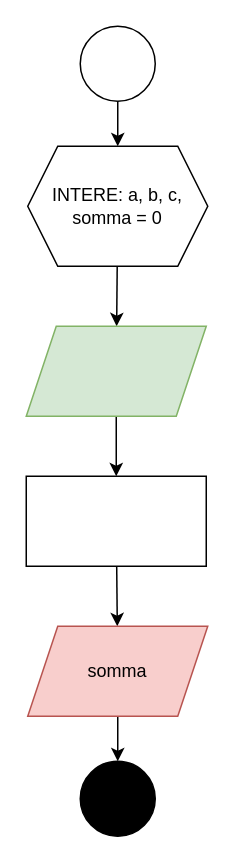
The diagram is 234 pixels wide and 863 high, and some of its shapes have lost their labels. The shapes that lost their labels are listed below. From the top down, each one's box as (x1, y1, x2, y2) in pixels, then its label:
(25, 325, 206, 416): a, b, c
(25, 475, 206, 566): somma = a + b + c
